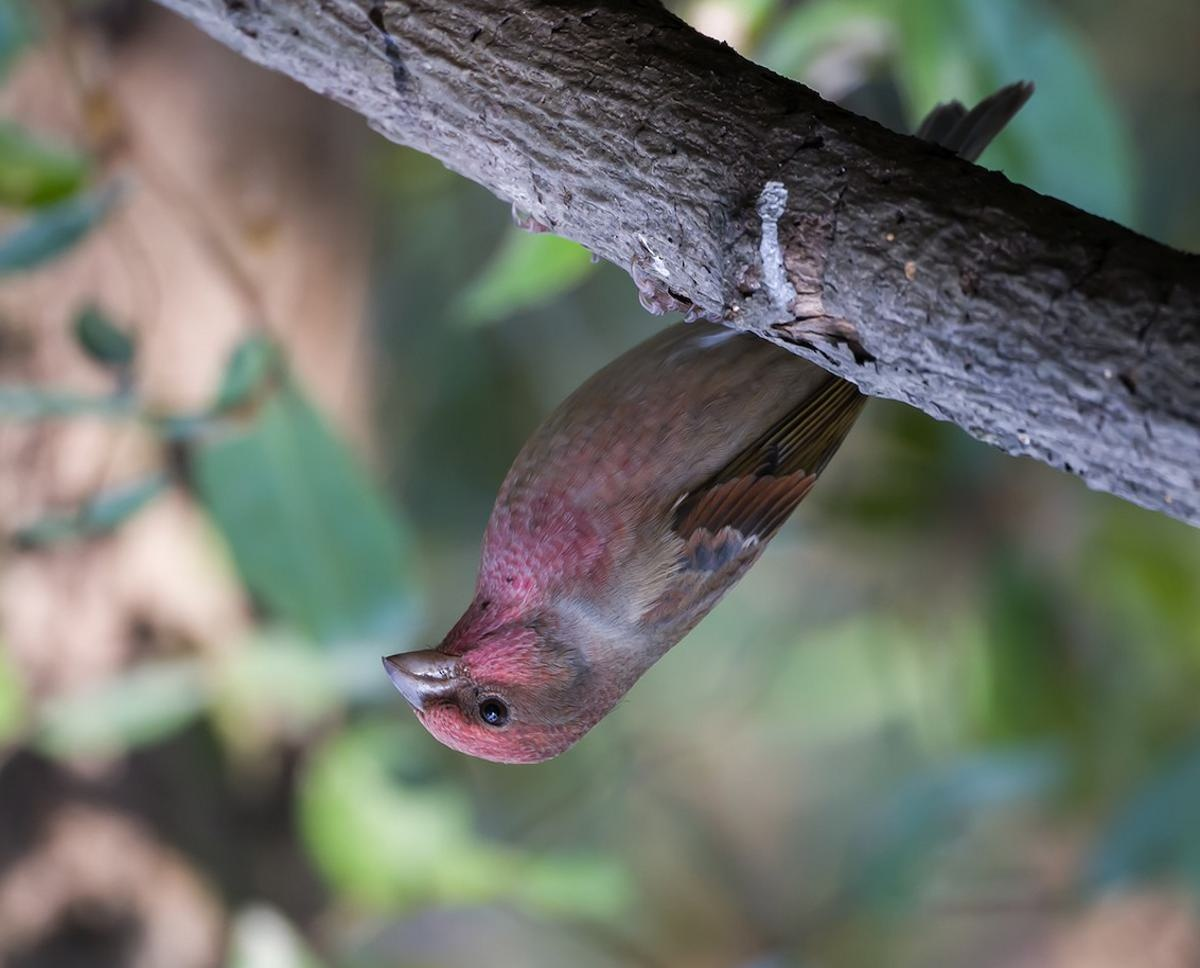rosefinch: (366, 258, 954, 775)
